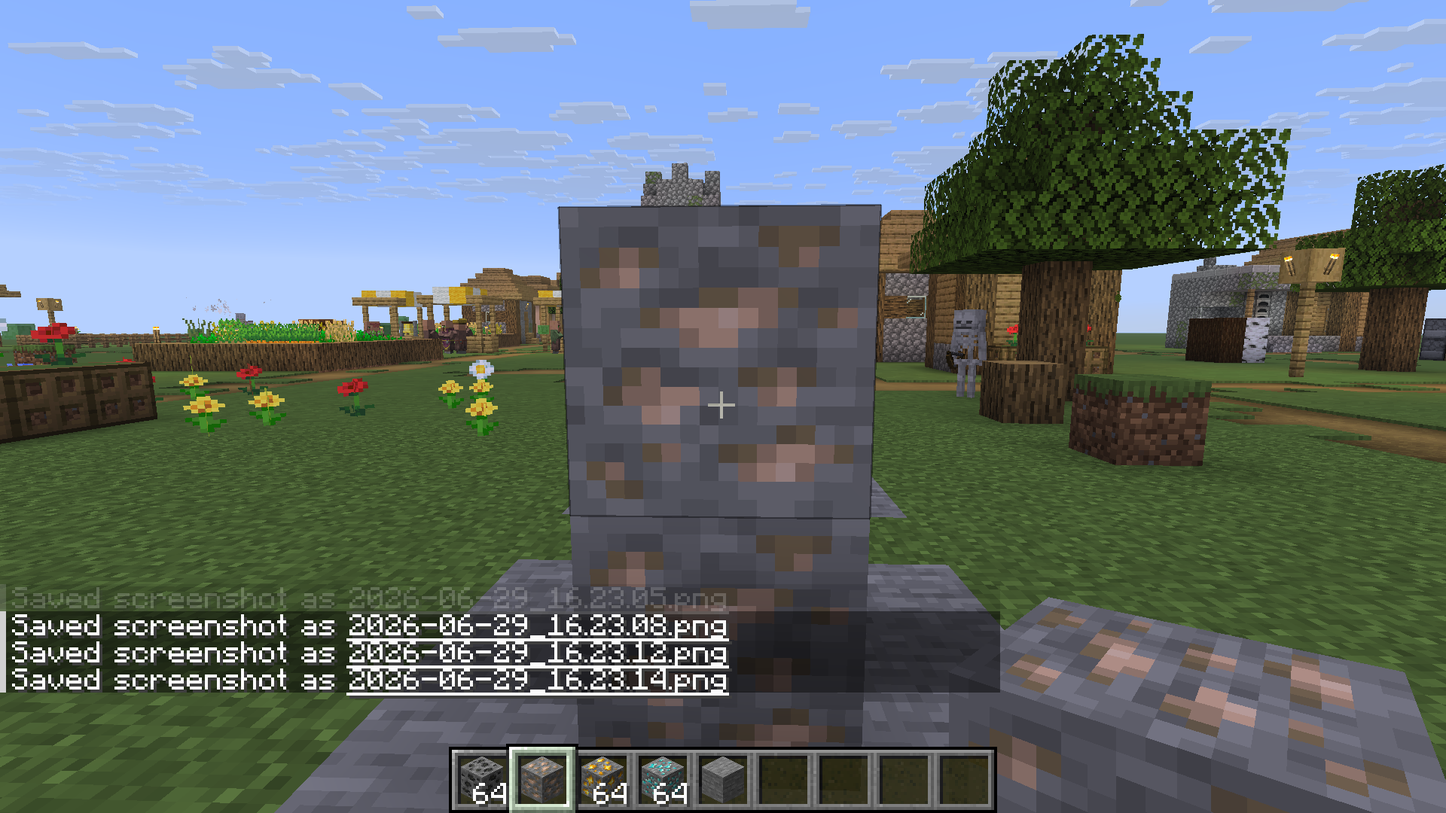iron ore: (559, 208, 880, 518)
skeleton: (946, 309, 993, 397)
